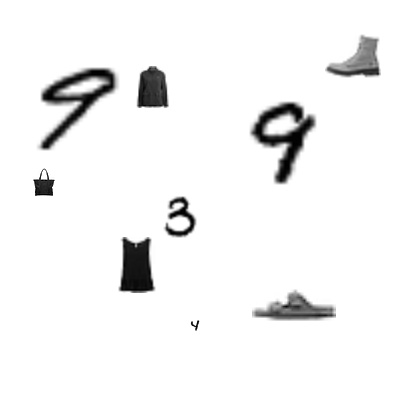3: (152, 189, 208, 245)
4: (188, 318, 202, 332)
9: (18, 41, 130, 153), (227, 79, 339, 191)
Ankle_boot: (325, 27, 381, 83)
Bag: (30, 168, 58, 196)
Coat: (131, 66, 173, 108)
Sandal: (252, 263, 336, 347)
Shirt: (109, 237, 165, 293)
